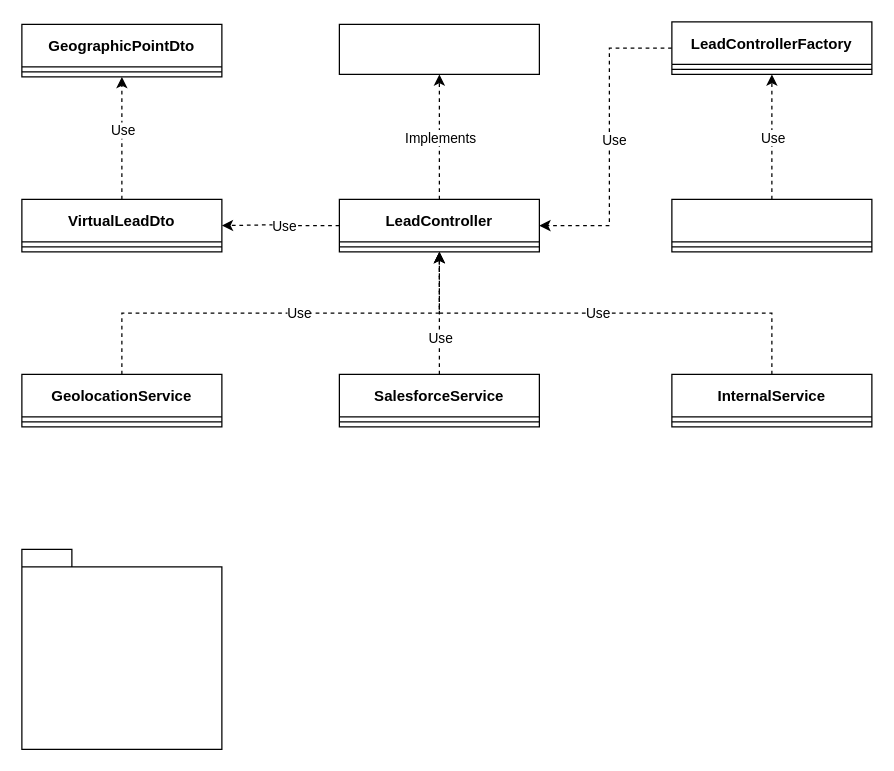
This 894x771 diagram has some shape labels left out. Each missing label, with the box of its shape:
Client: (671, 198, 872, 252)
package: (21, 548, 222, 749)
«interface» VirtualCrmService: (338, 23, 539, 74)
